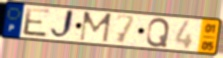4: (173, 19, 196, 51)
7: (114, 14, 136, 46)
E: (22, 6, 52, 39)
J: (49, 8, 76, 41)
M: (78, 11, 114, 44)
Q: (145, 17, 172, 48)
